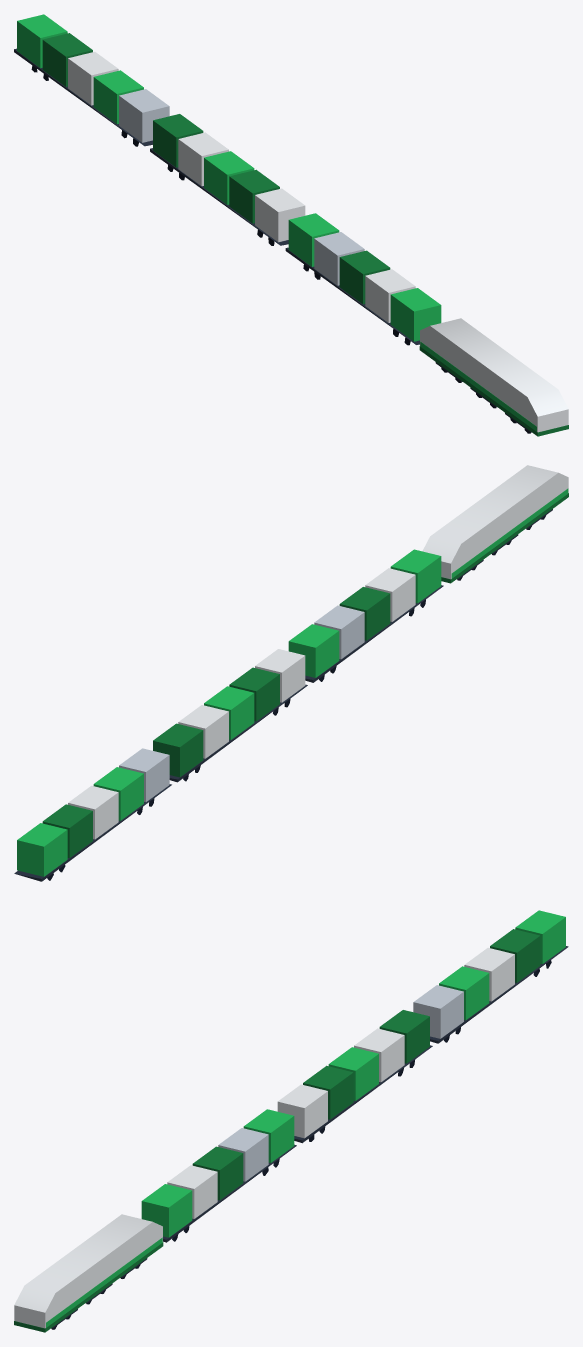
File: freight_train.glb
The picture shows the model from 3 angles, top to bottom: view 1: azimuth 30°, elevation 25°; view 2: azimuth 150°, elevation 25°; view 3: azimuth 330°, elevation 25°; orthographic projection.
Visible parts, largest first — view 1: freight_train; view 2: freight_train; view 3: freight_train.
Boxes of the visible parts, x1,y1,x2,y2 form: freight_train: (14,14,568,436); freight_train: (14,465,568,881); freight_train: (14,910,568,1332).
Size of the model in its own units: 2.83 by 3.8 by 82.02.
Materials: 1 (1 with a texture image).
